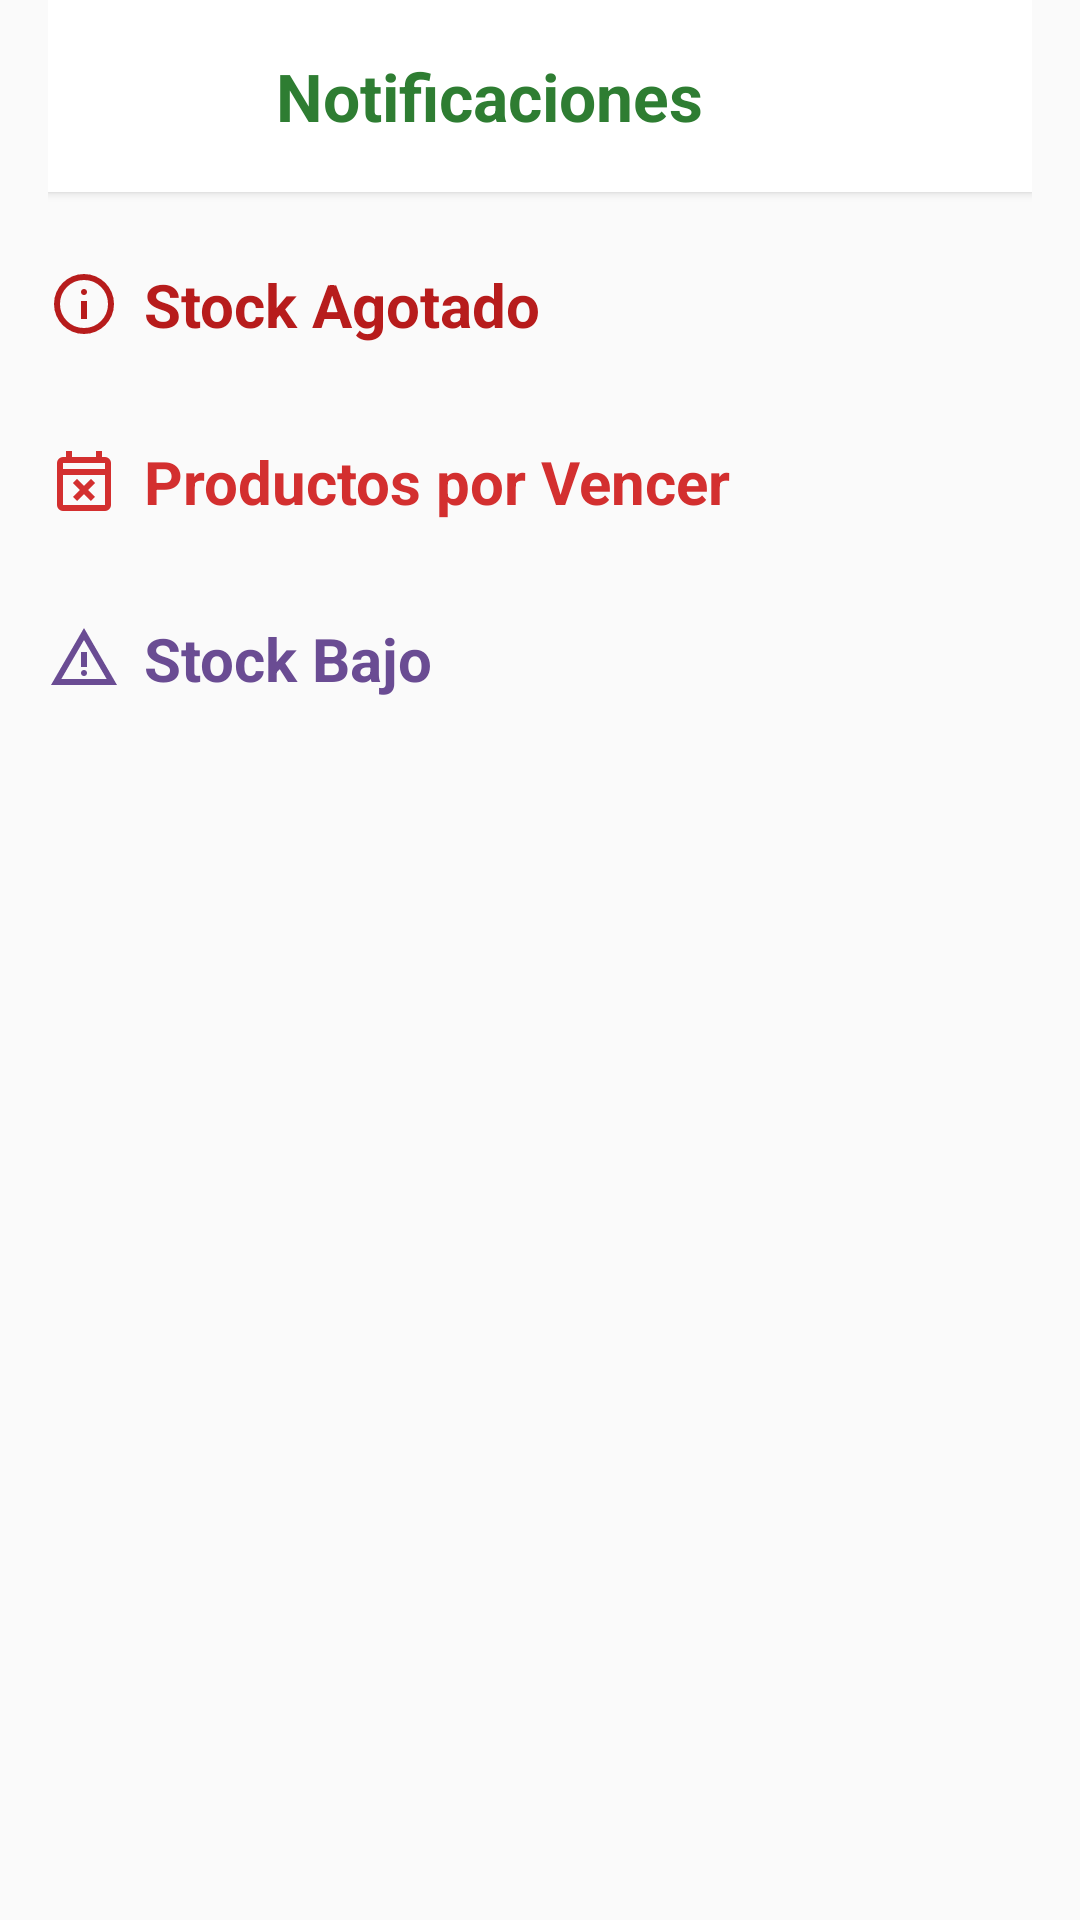

Named icons in this screenshot (1080px×1920px) and their bounding boxes, bbox(x1, y1, x2, y2):
alert: bbox(51, 628, 117, 685)
event busy: bbox(57, 451, 111, 511)
info: bbox(54, 274, 114, 334)
